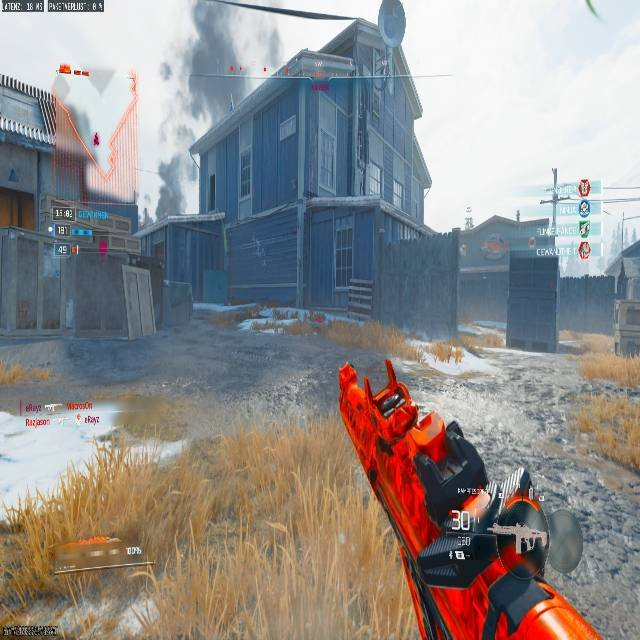head: (490, 500, 549, 574)
